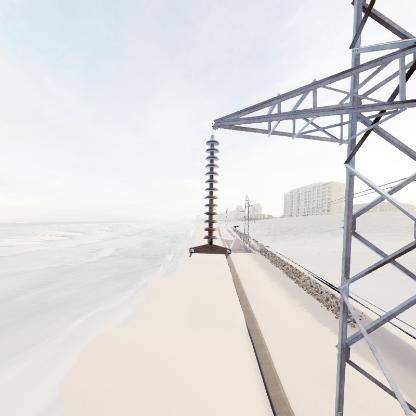insulator: (200, 135, 221, 246)
